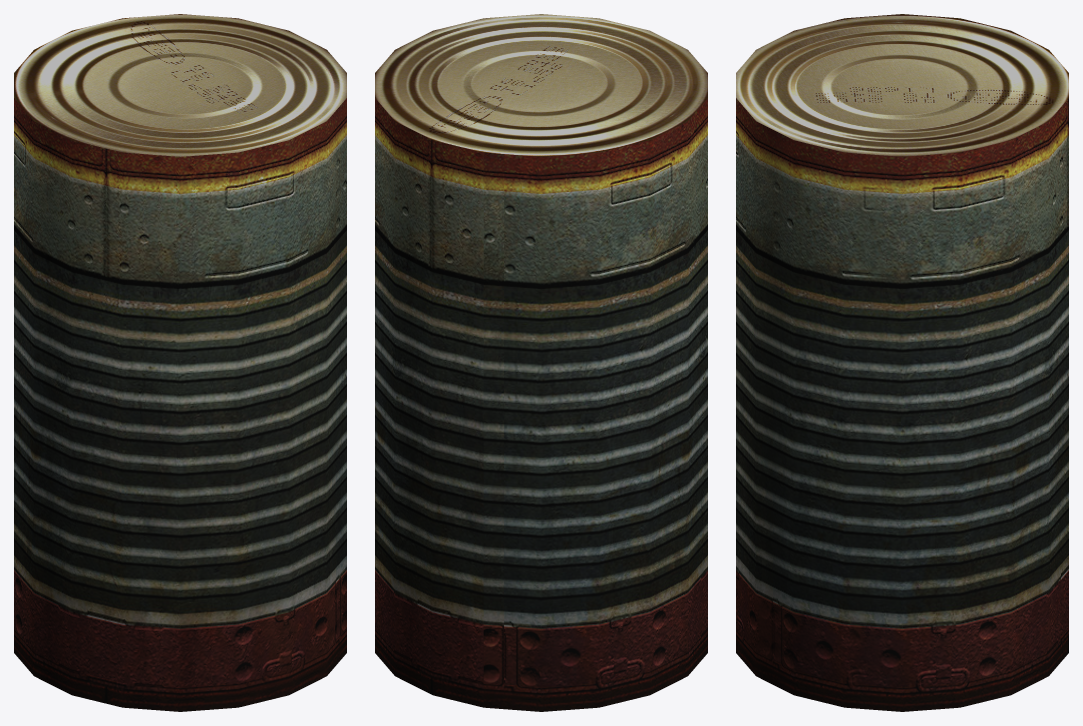
The picture shows the model from 3 angles, left to right: view 1: azimuth 30°, elevation 25°; view 2: azimuth 150°, elevation 25°; view 3: azimuth 270°, elevation 25°; orthographic projection.
Parts seen in each view (by area): view 1: Cylinder001; view 2: Cylinder001; view 3: Cylinder001.
Boxes of the visible parts, bbox=[...] form: Cylinder001: bbox=[14, 14, 346, 711]; Cylinder001: bbox=[375, 14, 707, 711]; Cylinder001: bbox=[736, 14, 1068, 711].
Size of the model in its own units: 87.04 by 158 by 85.72.
Materials: 1 (1 with a texture image).
